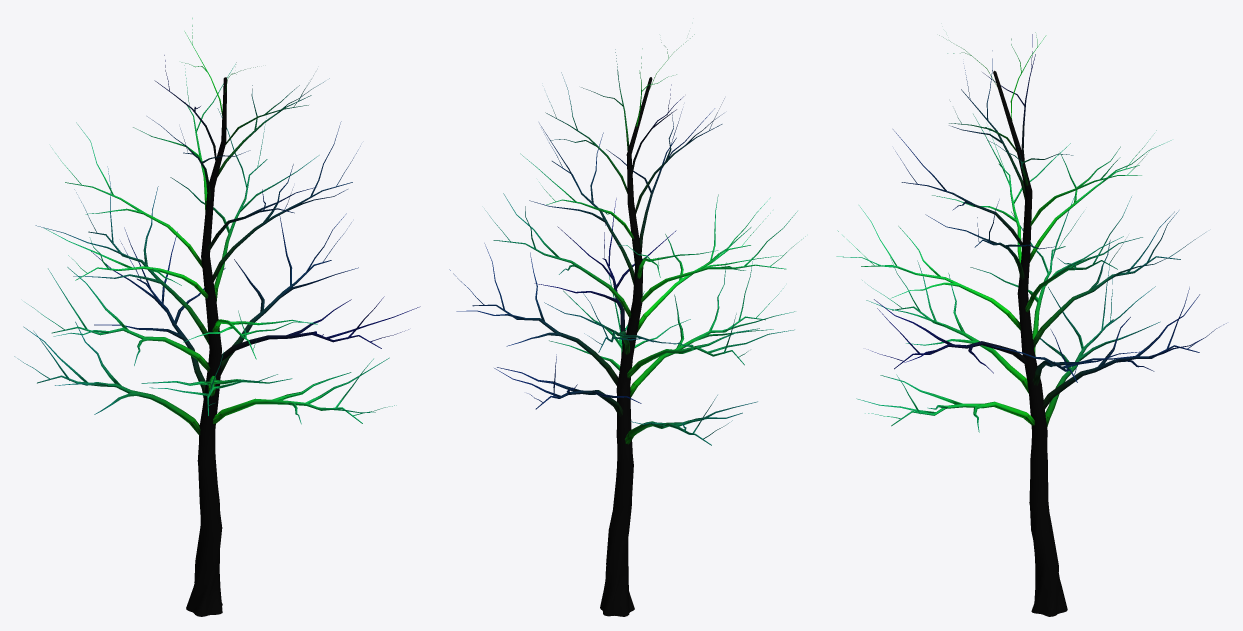
Rendered from SM_WLTree_011.FBX.
3 renders of one model, left to right at view 1: azimuth 30°, elevation 25°; view 2: azimuth 150°, elevation 25°; view 3: azimuth 270°, elevation 25°, orthographic. The views are drawn at different scales.
Parts seen in each view (by area): view 1: SM_WLTree_011_LOD0; view 2: SM_WLTree_011_LOD0; view 3: SM_WLTree_011_LOD0.
Boxes of the visible parts, x1,y1,x2,y2 form: SM_WLTree_011_LOD0: [14, 18, 420, 616]; SM_WLTree_011_LOD0: [449, 34, 805, 616]; SM_WLTree_011_LOD0: [836, 32, 1226, 616].
Size of what is drawn, in the model's own units: 338 by 354 by 580.
